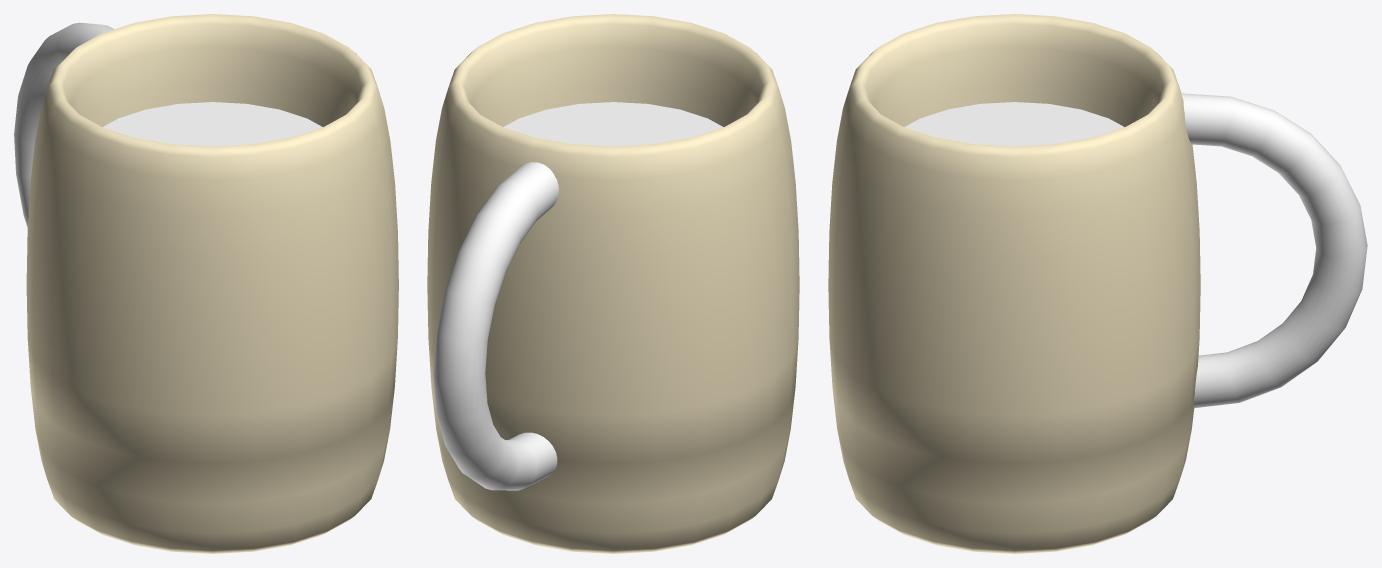
The picture shows the model from 3 angles, left to right: view 1: azimuth 30°, elevation 25°; view 2: azimuth 150°, elevation 25°; view 3: azimuth 270°, elevation 25°; orthographic projection.
Visible parts, largest first — view 1: Mesh1_Model.001; view 2: Mesh1_Model.001; view 3: Mesh1_Model.001.
Boxes of the visible parts, bbox=[...] form: Mesh1_Model.001: bbox=[14, 14, 398, 553]; Mesh1_Model.001: bbox=[427, 14, 799, 553]; Mesh1_Model.001: bbox=[828, 14, 1367, 553].
Size of the model in its own units: 0.6067 by 0.733 by 0.8788.
